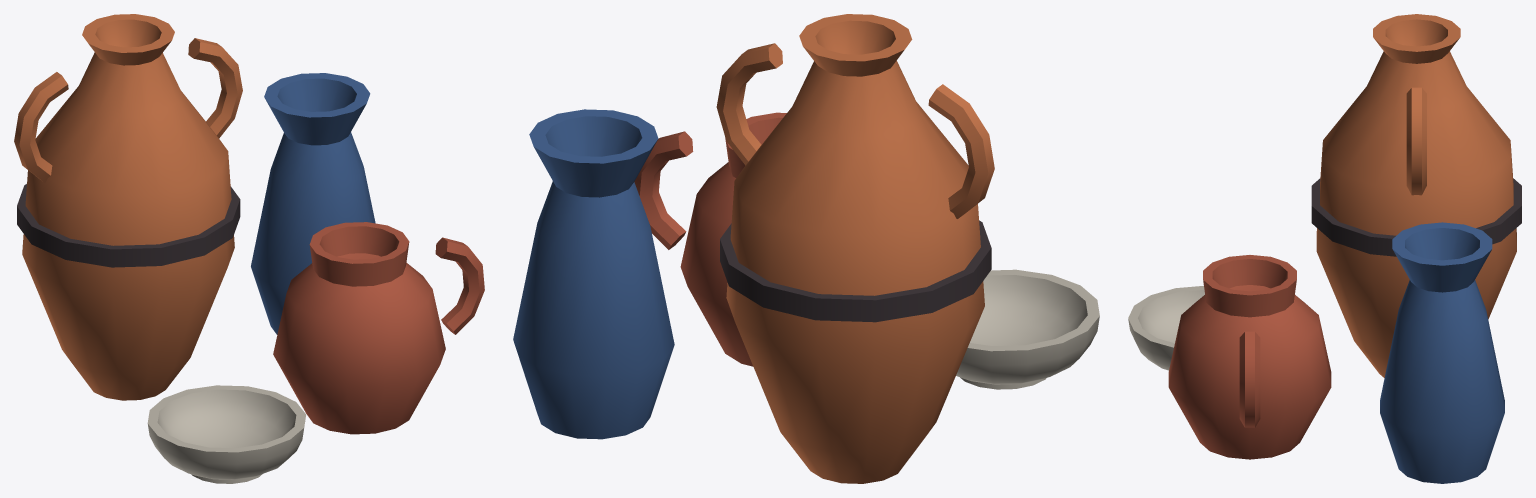
Rendered from pottery-set-pixor.glb.
3 renders of one model, left to right at view 1: azimuth 30°, elevation 25°; view 2: azimuth 150°, elevation 25°; view 3: azimuth 270°, elevation 25°, orthographic. The views are drawn at different scales.
Parts seen in each view (by area): view 1: Amphora, Jug, Vase, Bowl, Amphora band; view 2: Amphora, Vase, Bowl, Jug, Amphora band; view 3: Amphora, Jug, Vase, Bowl, Amphora band.
Boxes of the visible parts, x1,y1,x2,y2 form: Amphora: [14, 14, 242, 400]; Jug: [273, 222, 484, 434]; Vase: [251, 73, 375, 334]; Bowl: [147, 385, 306, 483]; Amphora band: [17, 184, 240, 267]; Amphora: [716, 14, 994, 483]; Vase: [513, 109, 674, 439]; Bowl: [956, 269, 1099, 389]; Jug: [634, 112, 786, 366]; Amphora band: [720, 220, 991, 322]; Amphora: [1316, 14, 1516, 377]; Jug: [1168, 255, 1331, 459]; Vase: [1380, 222, 1504, 483]; Bowl: [1128, 285, 1204, 370]; Amphora band: [1311, 178, 1521, 256].
Bounding box in the file's own units: 0.6562 × 0.58 × 0.6138.
